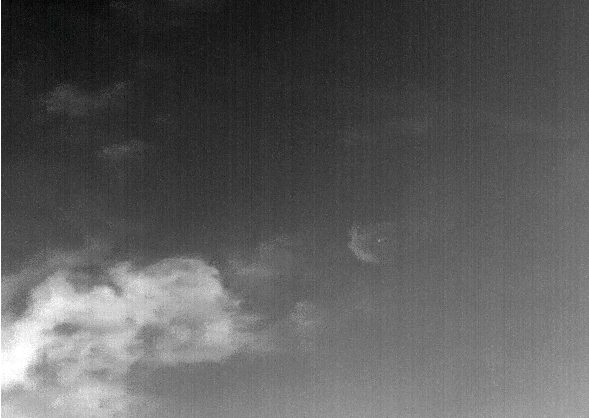dim target: (377, 238, 381, 243)
